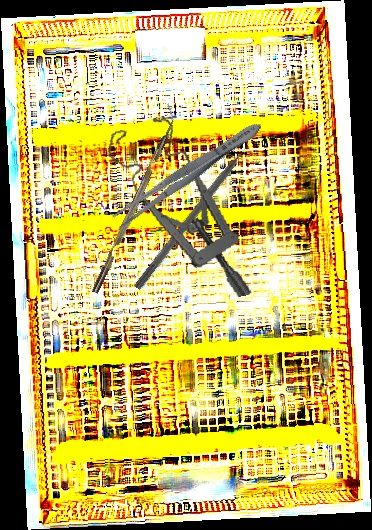Chopper: (83, 105, 183, 294)
Dressing Forceps: (108, 115, 268, 233)
Pusher: (133, 131, 262, 292)
Speculum: (102, 105, 254, 317)
